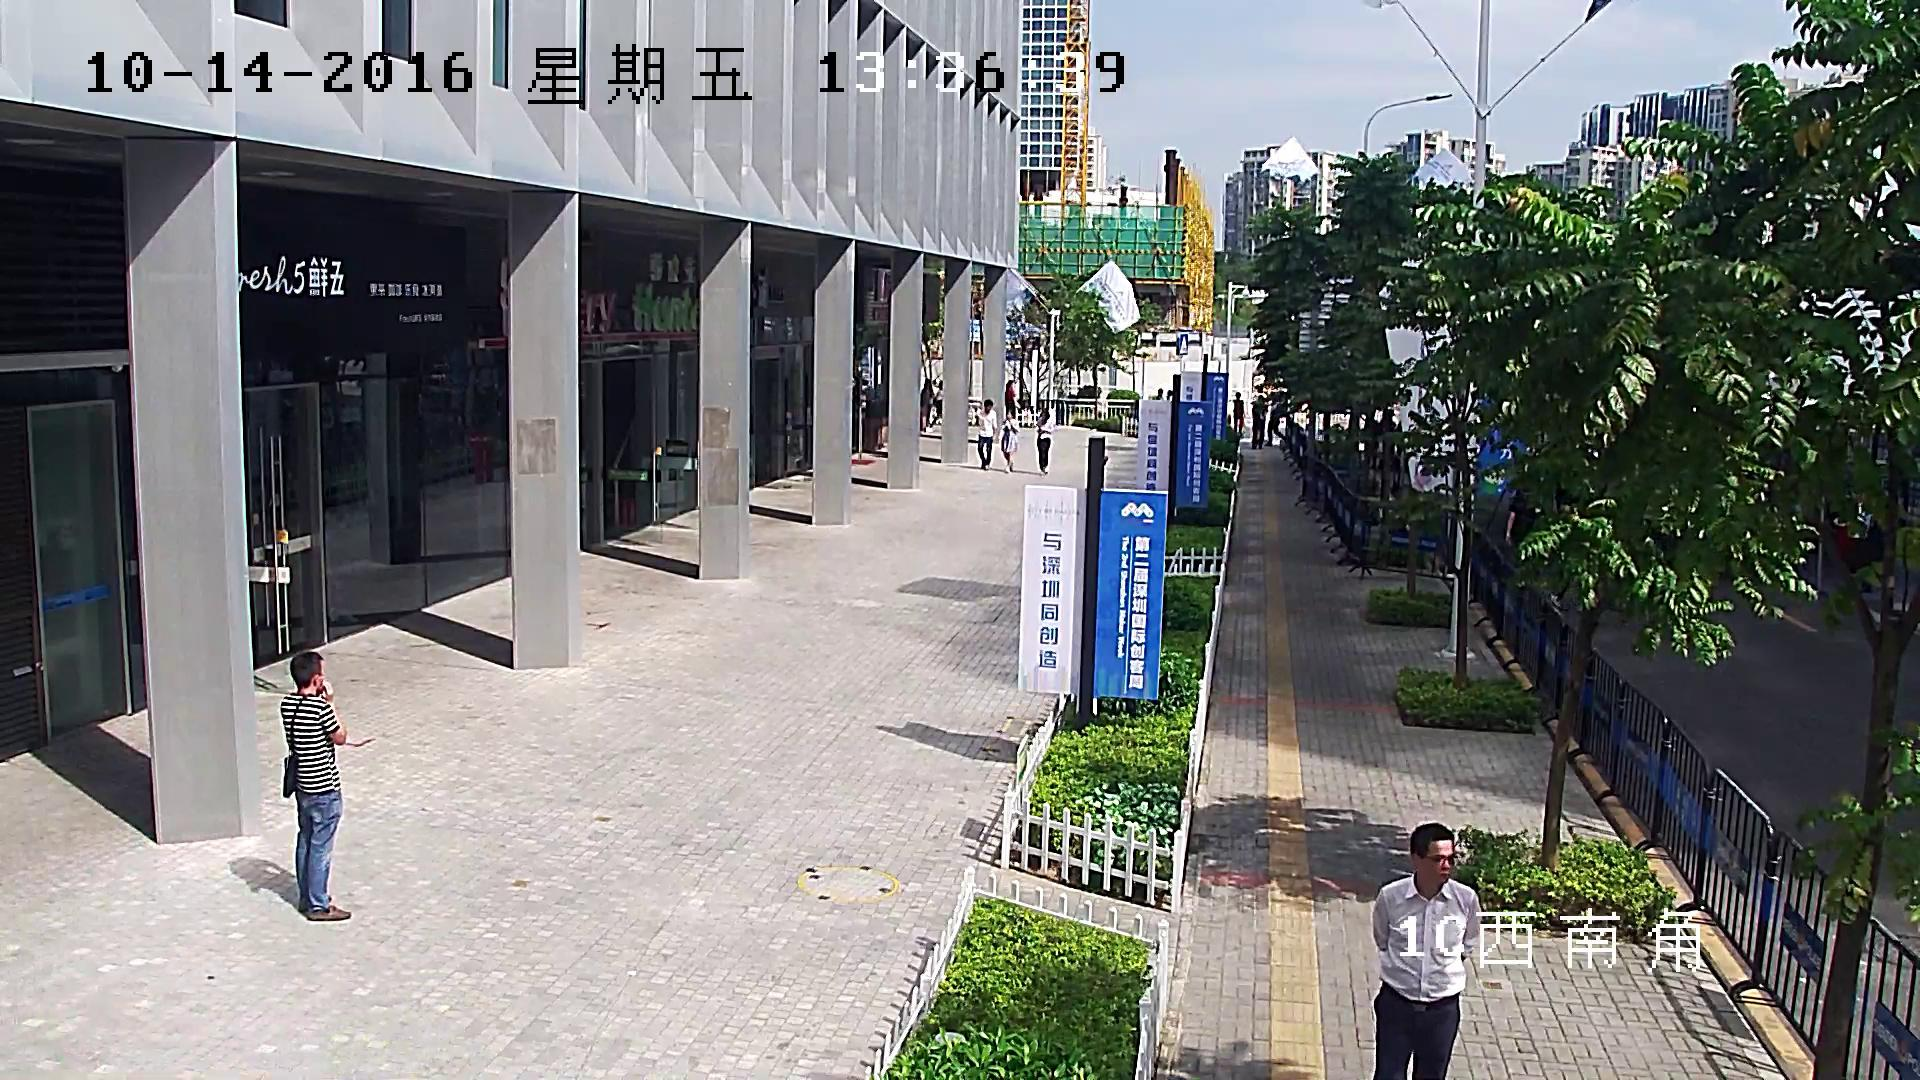person: (1372, 822, 1482, 1080), (279, 649, 350, 921), (1503, 484, 1539, 548), (978, 399, 996, 469), (1035, 409, 1052, 476), (1265, 400, 1287, 446), (1001, 411, 1016, 473), (1251, 395, 1267, 447), (931, 380, 945, 426), (1231, 391, 1243, 432), (1005, 379, 1016, 417)
